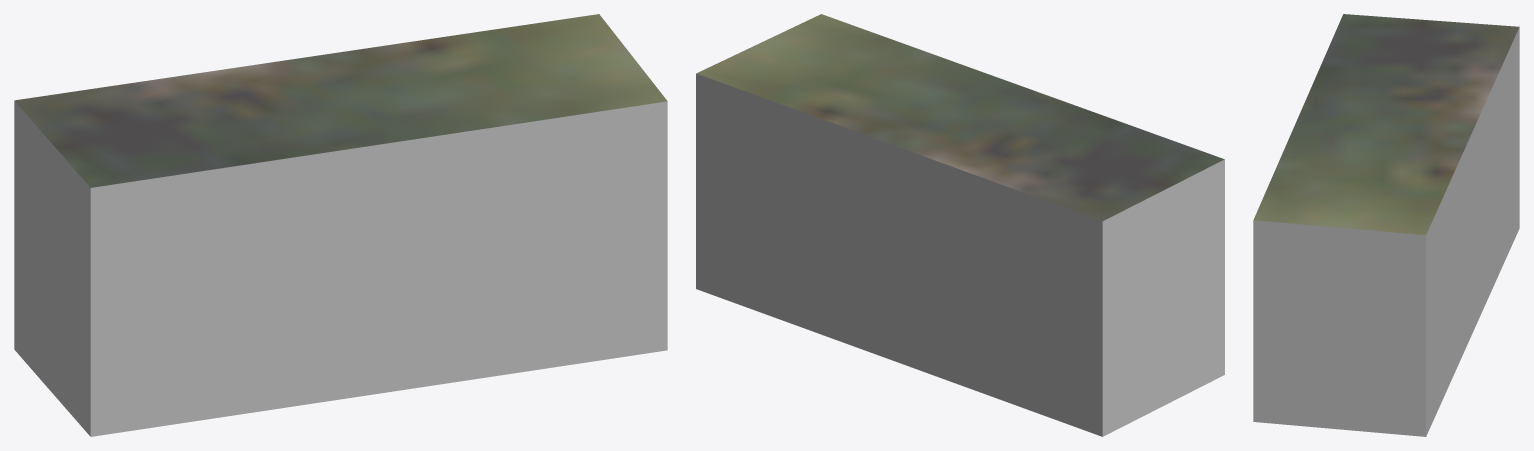
File: DEBW_0010007THTk.gltf
3 renders of one model, left to right at view 1: azimuth 30°, elevation 25°; view 2: azimuth 150°, elevation 25°; view 3: azimuth 270°, elevation 25°, orthographic. The views are drawn at different scales.
Parts seen in each view (by area): view 1: Z_UP; view 2: Z_UP; view 3: Z_UP.
Part boxes in pixels (<box>): Z_UP: <box>14,14,667,436</box>; Z_UP: <box>696,14,1224,436</box>; Z_UP: <box>1253,14,1519,436</box>.
Size of the model in its own units: 5.88 by 2.5 by 2.99.
Materials: 2 (1 with a texture image).
